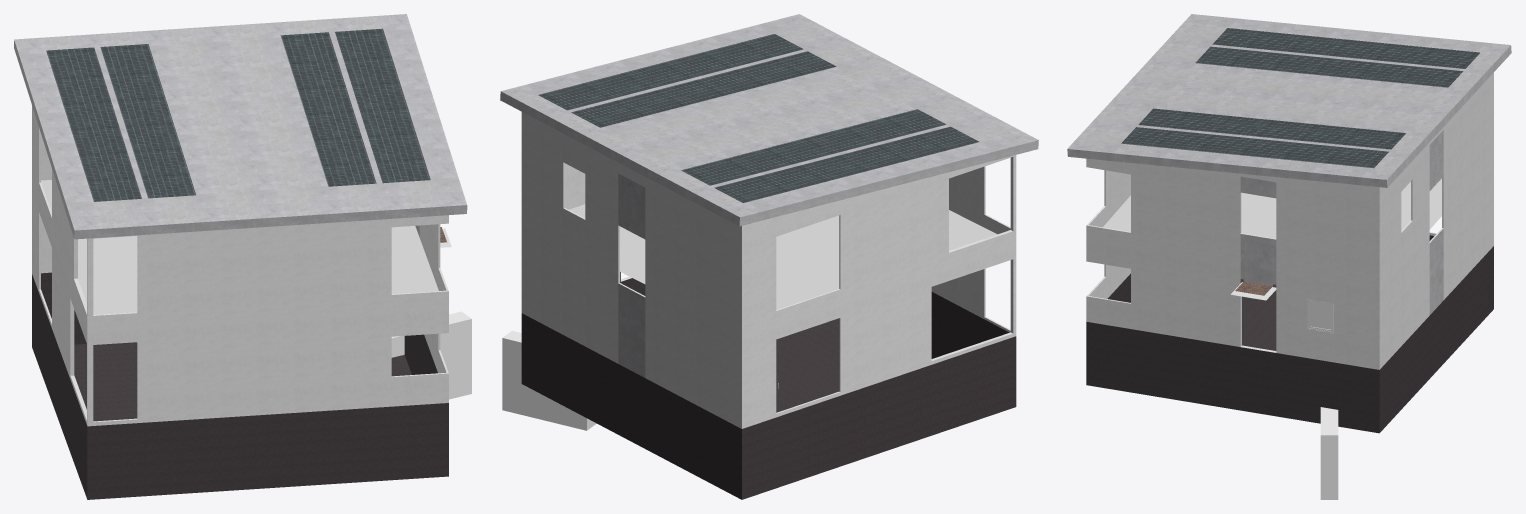
3 views of the same model, side by side, from view 1: azimuth 30°, elevation 25°; view 2: azimuth 150°, elevation 25°; view 3: azimuth 270°, elevation 25° (orthographic). The views are drawn at different scales.
Parts seen in each view (by area): view 1: Mesh 67, Mesh 58, Mesh 32.001, Mesh 75, Plane, CTRL_Hole; view 2: Mesh 67, Mesh 58, Mesh 32.001, Mesh 75, Plane, CTRL_Hole; view 3: Mesh 67, Mesh 58, Mesh 32.001, Mesh 75, Plane, CTRL_Hole, Window.L.
Boxes of the visible parts, x1=… form: Mesh 67: x1=32, y1=106, x2=451, y2=426; Mesh 58: x1=14, y1=14, x2=467, y2=239; Mesh 32.001: x1=32, y1=272, x2=448, y2=499; Mesh 75: x1=46, y1=28, x2=430, y2=201; Plane: x1=41, y1=180, x2=438, y2=314; CTRL_Hole: x1=391, y1=311, x2=471, y2=399; Mesh 67: x1=521, y1=112, x2=1016, y2=428; Mesh 58: x1=500, y1=14, x2=1038, y2=377; Mesh 32.001: x1=521, y1=278, x2=1016, y2=499; Mesh 75: x1=538, y1=34, x2=979, y2=202; Plane: x1=569, y1=204, x2=997, y2=309; CTRL_Hole: x1=502, y1=330, x2=596, y2=430; Mesh 67: x1=1086, y1=72, x2=1493, y2=369; Mesh 58: x1=1067, y1=14, x2=1511, y2=314; Mesh 32.001: x1=1086, y1=235, x2=1493, y2=433; Mesh 75: x1=1121, y1=28, x2=1479, y2=168; Plane: x1=1103, y1=178, x2=1441, y2=238; CTRL_Hole: x1=1320, y1=407, x2=1338, y2=499; Window.L: x1=1308, y1=301, x2=1331, y2=331.
Size of the model in its own units: 13.43 by 9.74 by 12.7.
Materials: 15 (6 with a texture image).
